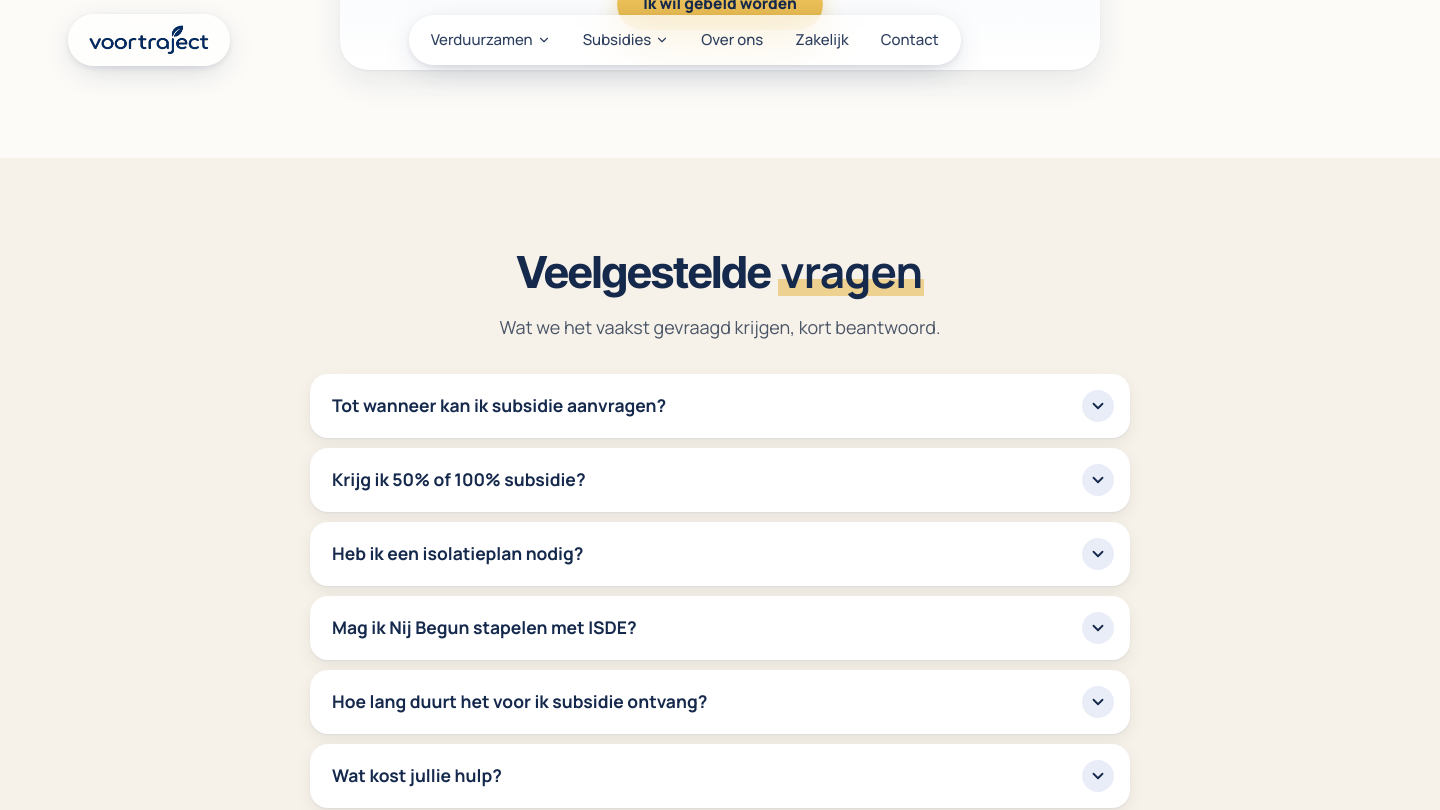
/subsidies/nij-begun › opent één vraag tegelijk in de FAQ
(page scrolled)
Click the button "Tot wanneer kan ik subsidie aanvragen?". click: (499, 405)
box: [310,374,1130,438]
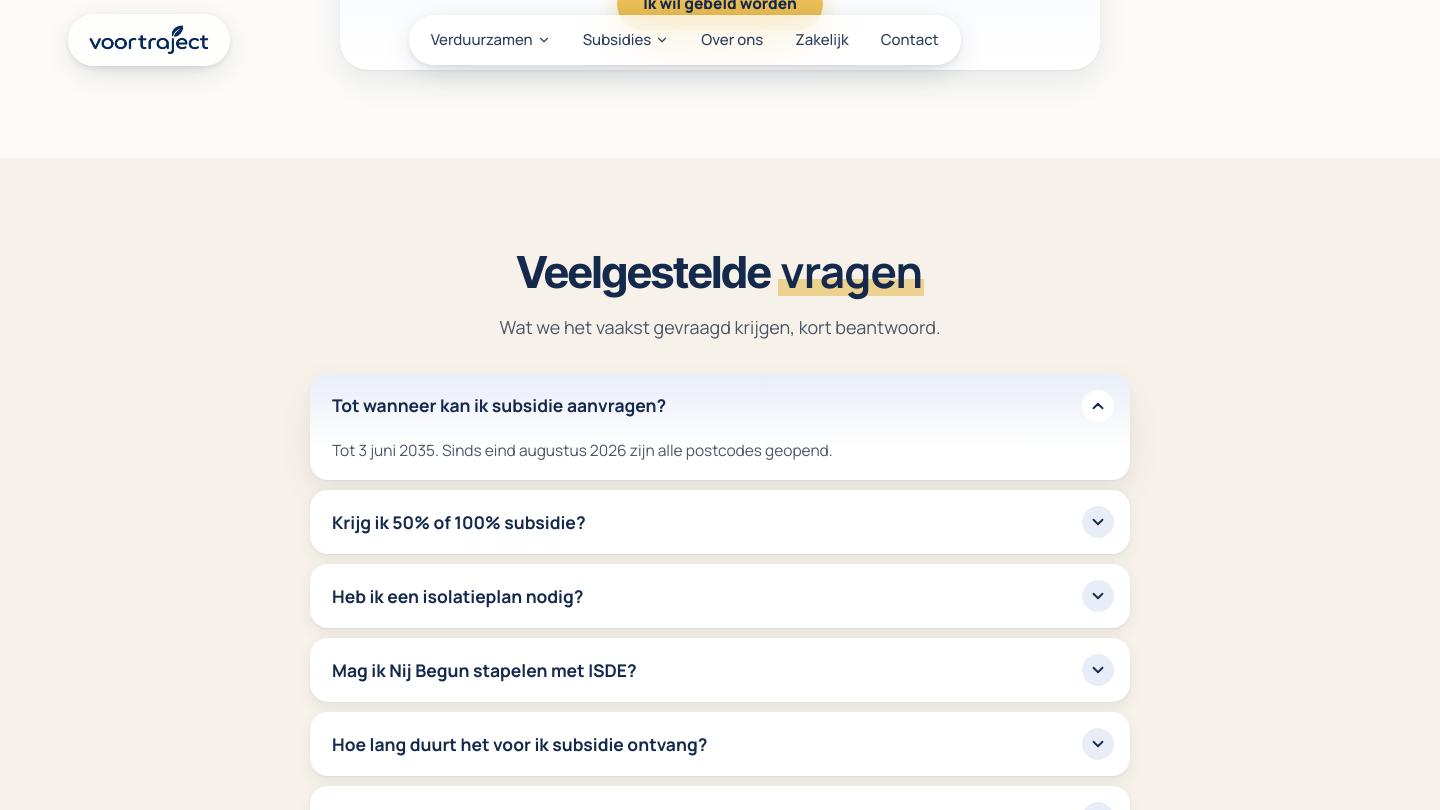
Now the button "Tot wanneer kan ik subsidie aanvragen?" is expanded, box [310,374,1130,438]
Click the button "Krijg ik 50% of 100% subsidie?". click: (459, 522)
box: [310,490,1130,554]
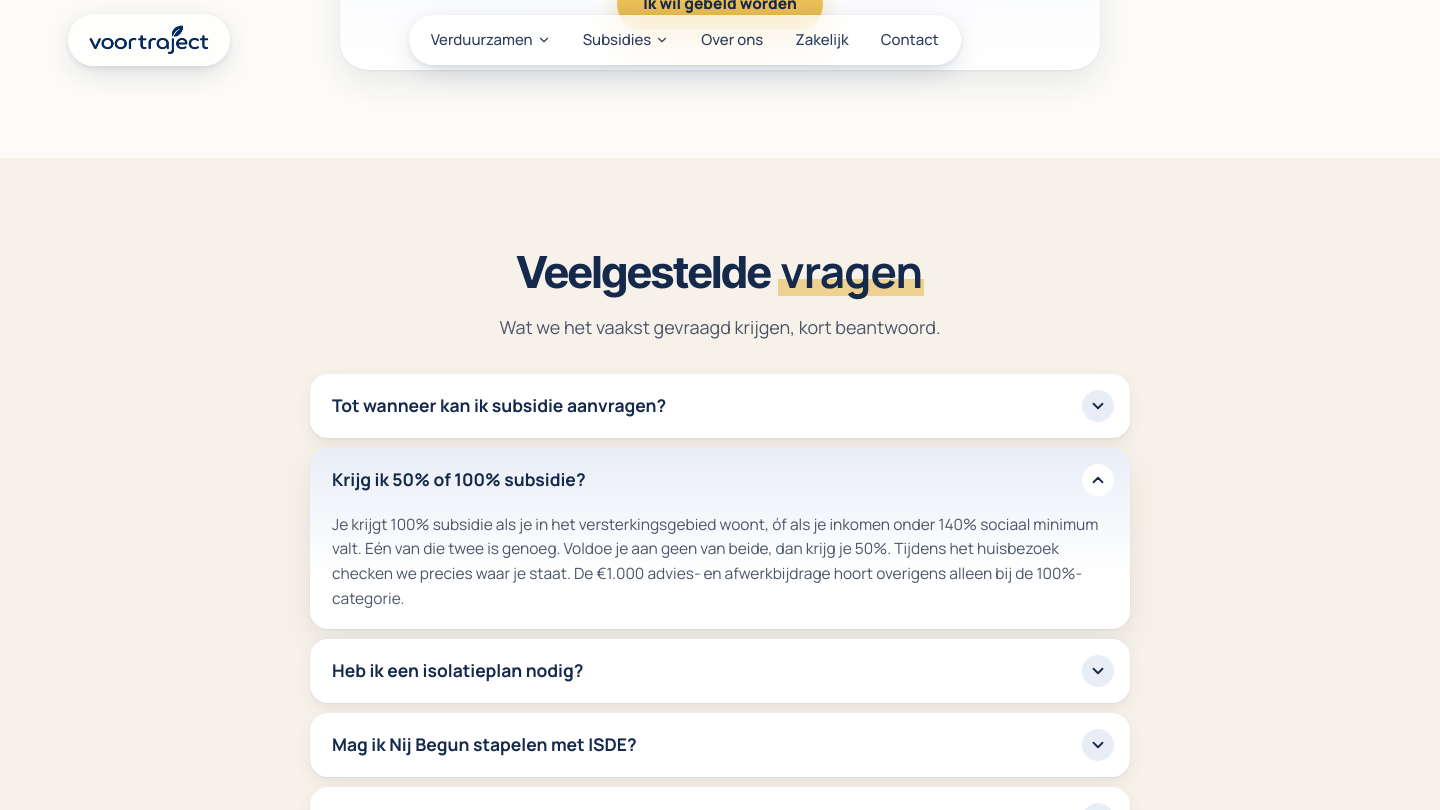
Now the button "Tot wanneer kan ik subsidie aanvragen?" is collapsed, box [310,374,1130,438]
Now the button "Krijg ik 50% of 100% subsidie?" is expanded
Click the button "Krijg ik 50% of 100% subsidie?". click: (459, 479)
box: [310,448,1130,512]
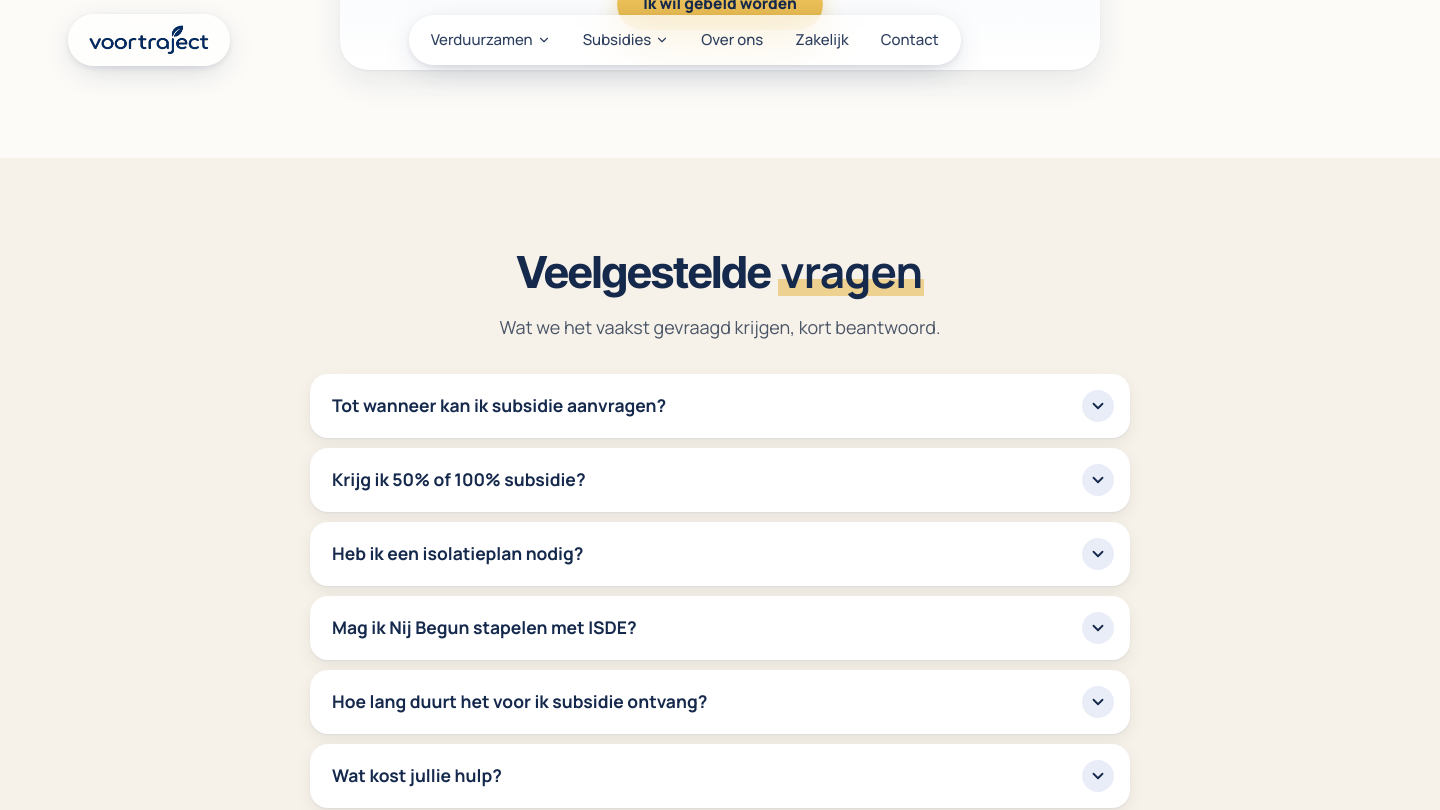
Now the button "Krijg ik 50% of 100% subsidie?" is collapsed, box [310,448,1130,512]
